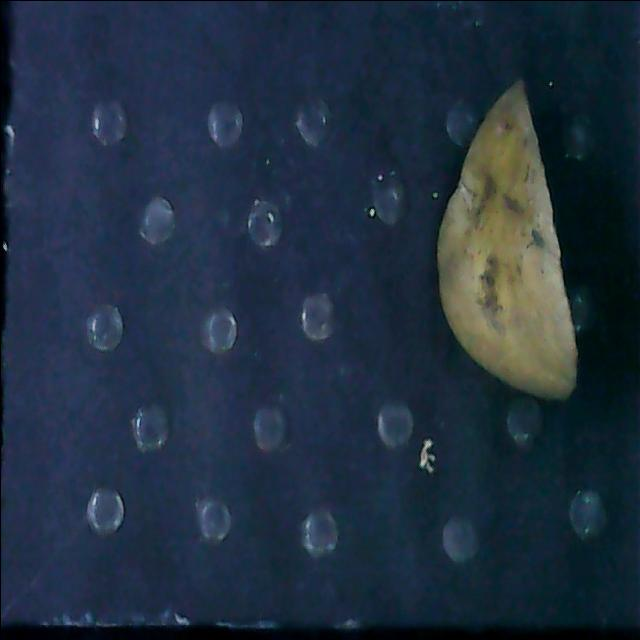-Kitchen waste - potato-: (426, 82, 580, 404)
